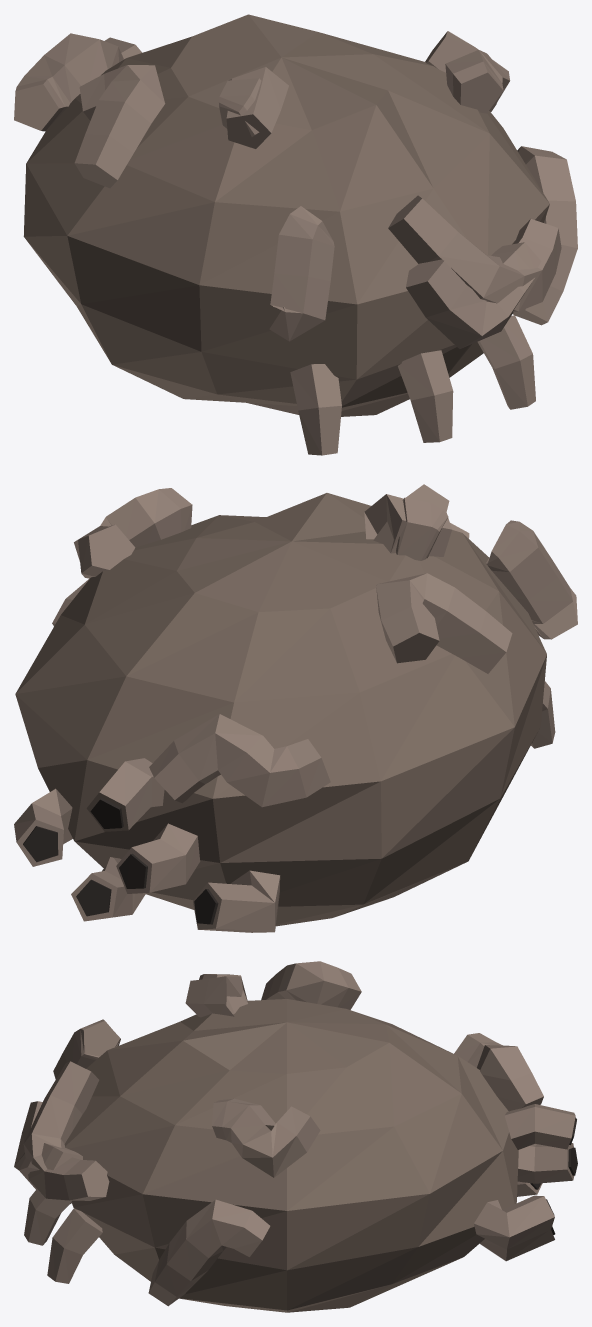
File: vge_exoworm_knot.obj
3 renders of one model, top to bottom at view 1: azimuth 30°, elevation 25°; view 2: azimuth 150°, elevation 25°; view 3: azimuth 270°, elevation 25°, orthographic. The views are drawn at different scales.
Visible parts, largest first — view 1: vge_exoworm_knot_0, vge_exoworm_knot_3, vge_exoworm_knot_6, vge_exoworm_knot_4, vge_exoworm_knot_8, vge_exoworm_knot_5, vge_exoworm_knot_7, vge_exoworm_knot_1, vge_exoworm_knot_2, vge_exoworm_knot_20, vge_exoworm_knot_19, vge_exoworm_knot_21; view 2: vge_exoworm_knot_0, vge_exoworm_knot_5, vge_exoworm_knot_6, vge_exoworm_knot_8, vge_exoworm_knot_2, vge_exoworm_knot_1, vge_exoworm_knot_15, vge_exoworm_knot_13, vge_exoworm_knot_17, vge_exoworm_knot_9, vge_exoworm_knot_11, vge_exoworm_knot_12 (+5 smaller); view 3: vge_exoworm_knot_0, vge_exoworm_knot_3, vge_exoworm_knot_7, vge_exoworm_knot_2, vge_exoworm_knot_5, vge_exoworm_knot_6, vge_exoworm_knot_9, vge_exoworm_knot_17, vge_exoworm_knot_21, vge_exoworm_knot_1, vge_exoworm_knot_13, vge_exoworm_knot_8 (+3 smaller).
Boxes of the visible parts, x1,y1,x2,y2 form: vge_exoworm_knot_0: (23,14,549,416); vge_exoworm_knot_3: (388,195,561,312); vge_exoworm_knot_6: (74,65,165,188); vge_exoworm_knot_4: (406,242,541,348); vge_exoworm_knot_8: (269,206,334,341); vge_exoworm_knot_5: (14,33,123,131); vge_exoworm_knot_7: (513,146,577,325); vge_exoworm_knot_1: (218,67,288,148); vge_exoworm_knot_2: (425,31,510,113); vge_exoworm_knot_20: (398,350,453,442); vge_exoworm_knot_19: (290,364,341,455); vge_exoworm_knot_21: (477,315,535,409); vge_exoworm_knot_0: (15,493,546,926); vge_exoworm_knot_5: (149,714,330,807); vge_exoworm_knot_6: (376,573,512,673); vge_exoworm_knot_8: (486,520,577,639); vge_exoworm_knot_2: (74,488,192,578); vge_exoworm_knot_1: (364,494,452,560); vge_exoworm_knot_15: (193,870,280,932); vge_exoworm_knot_13: (116,823,200,893); vge_exoworm_knot_17: (86,758,164,831); vge_exoworm_knot_9: (14,788,72,866); vge_exoworm_knot_11: (71,857,146,921); vge_exoworm_knot_12: (76,879,111,916); vge_exoworm_knot_0: (64,999,518,1312); vge_exoworm_knot_3: (23,1061,109,1200); vge_exoworm_knot_7: (148,1199,270,1306); vge_exoworm_knot_2: (212,1098,320,1177); vge_exoworm_knot_5: (454,1033,543,1111); vge_exoworm_knot_6: (261,961,361,1009); vge_exoworm_knot_9: (474,1195,554,1249); vge_exoworm_knot_17: (504,1104,575,1149); vge_exoworm_knot_21: (47,1208,102,1283); vge_exoworm_knot_1: (185,974,248,1017); vge_exoworm_knot_13: (517,1143,574,1183); vge_exoworm_knot_8: (53,1019,120,1079).
Size of the model in its own units: 1.71 by 1.25 by 2.24.
